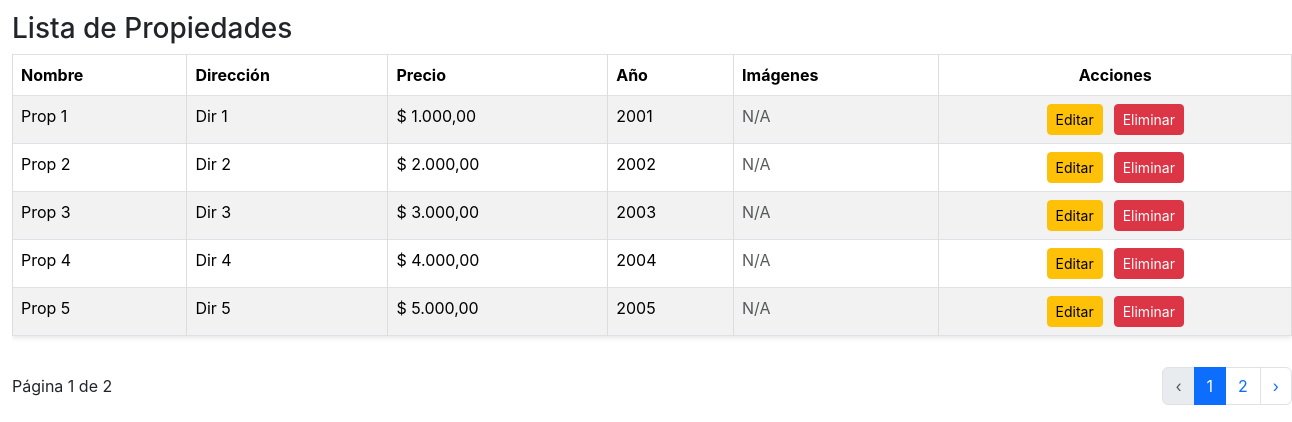
Test case: PropertyList › cambia a la página 2 al hacer click en el paginador
Click the button "2": point(1243, 386) left=1225, top=367, right=1261, bottom=405
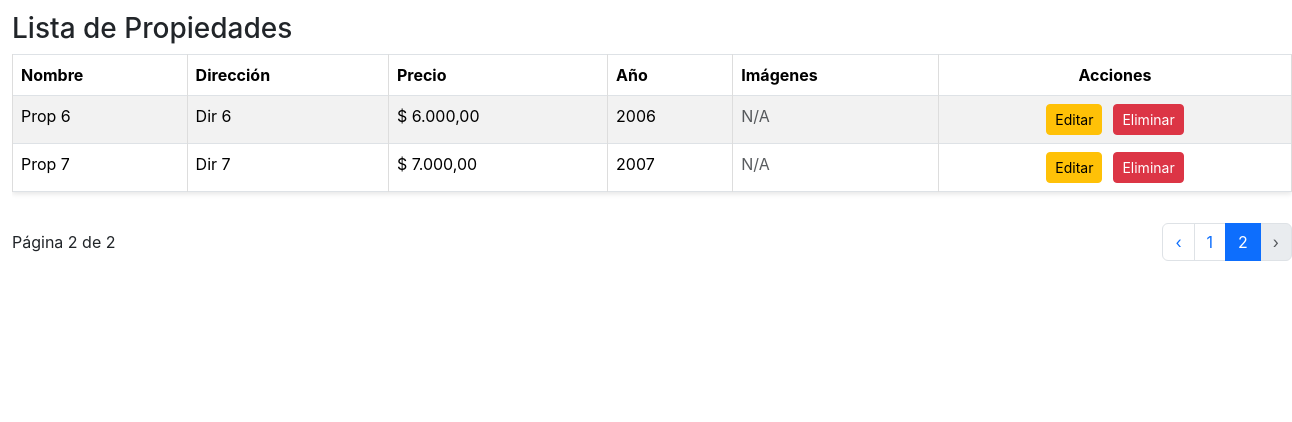
Expected: the text "Página 2 de 2" is shown, left=12, top=230, right=116, bottom=254
Expected: the text "Prop 6" is shown, left=12, top=95, right=187, bottom=143
Expected: the text "Prop 7" is shown, left=12, top=143, right=187, bottom=191
